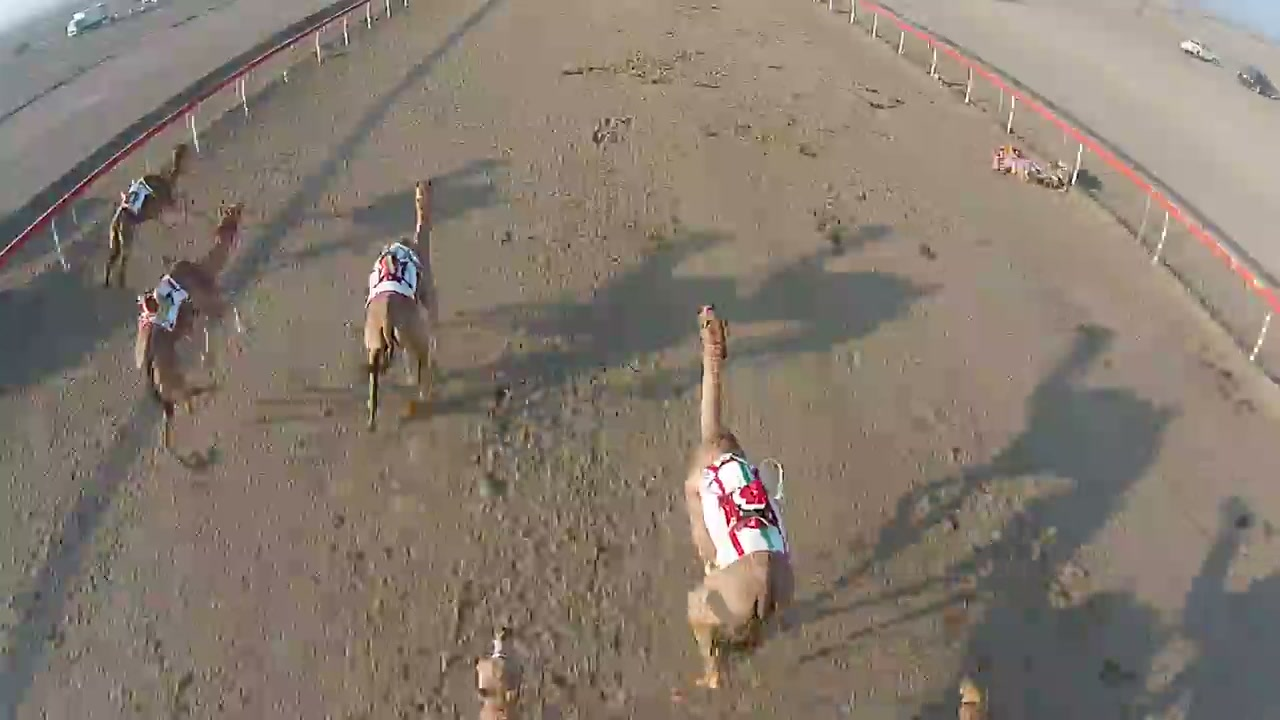animal_footprint: (442, 320, 629, 702)
